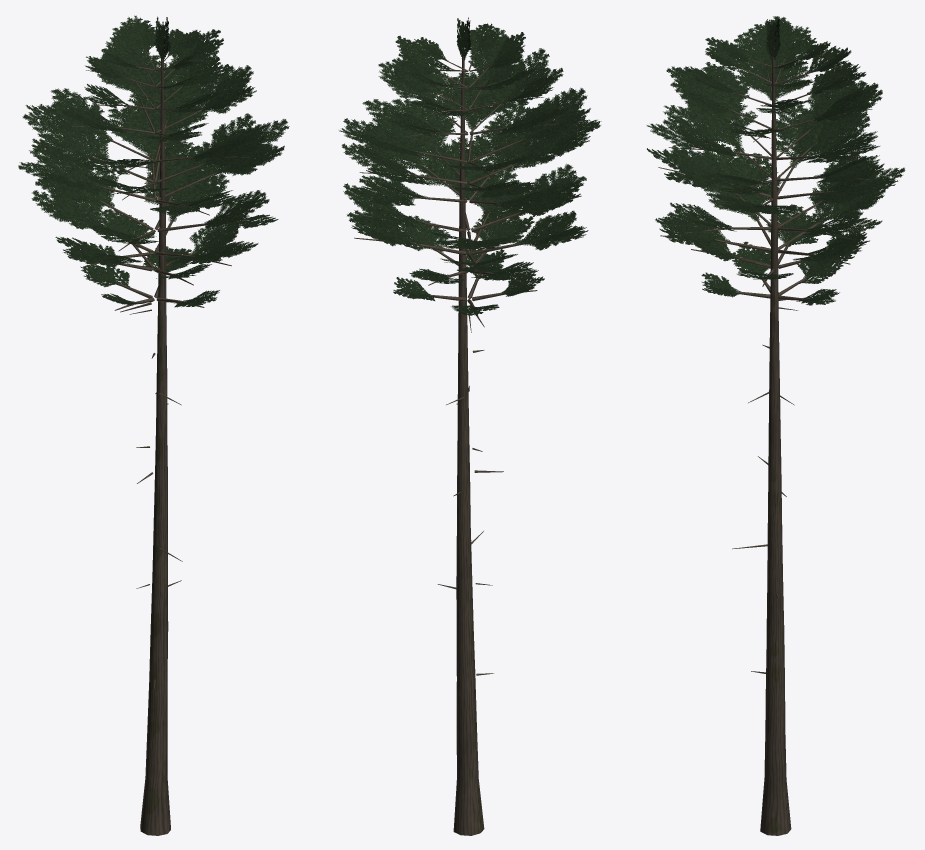
The model's file is S7U_Pine_B.fbx.
The picture shows the model from 3 angles, left to right: view 1: azimuth 30°, elevation 25°; view 2: azimuth 150°, elevation 25°; view 3: azimuth 270°, elevation 25°; orthographic projection.
Parts seen in each view (by area): view 1: S7U_Pine_B; view 2: S7U_Pine_B; view 3: S7U_Pine_B.
Boxes of the visible parts, x1,y1,x2,y2 form: S7U_Pine_B: (18, 15, 289, 835); S7U_Pine_B: (339, 17, 601, 835); S7U_Pine_B: (647, 16, 905, 835).
Size of the model in its own units: 5.76 by 18.6 by 5.61.
